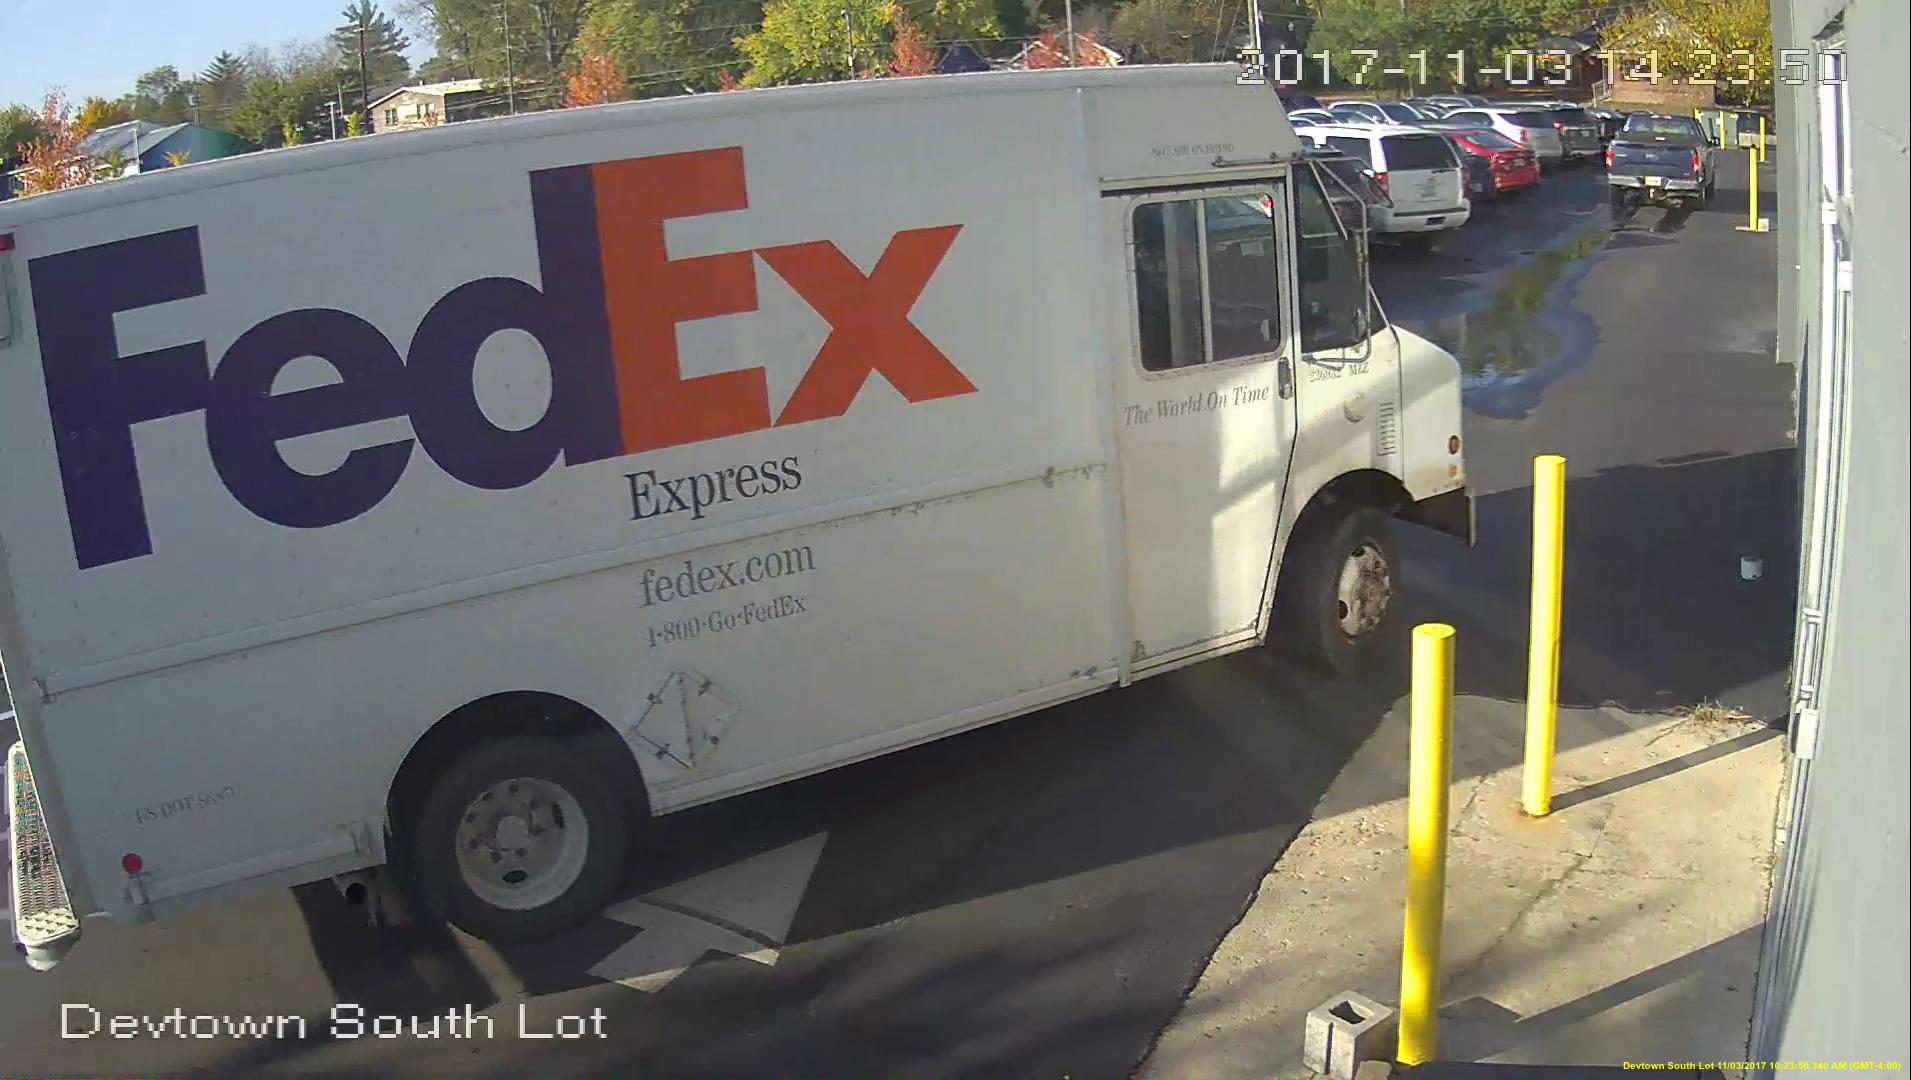fedex_truck: (24, 55, 1496, 971)
